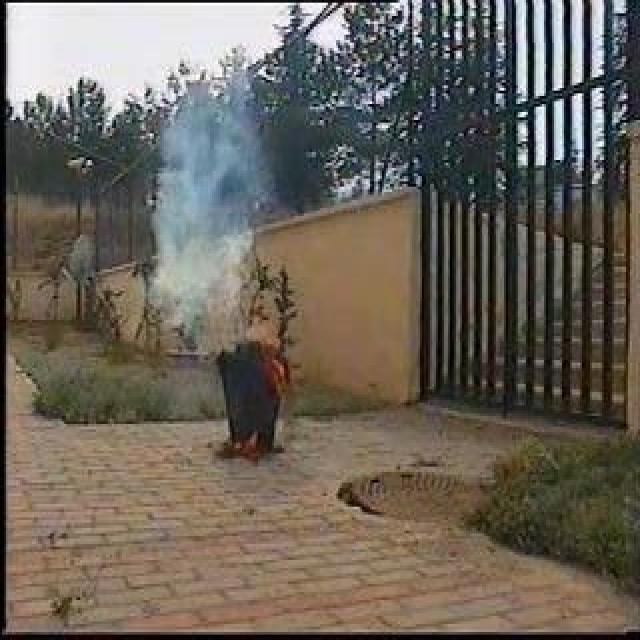fire: (255, 325, 299, 395)
smoke: (156, 83, 260, 328)
